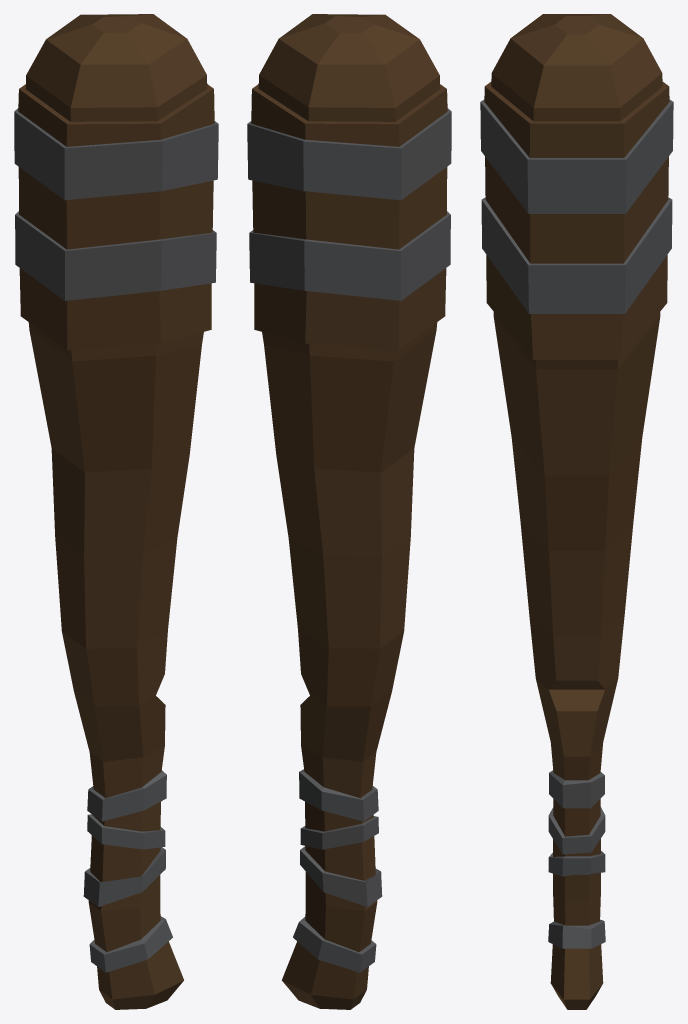
The model's file is Club_B.glb.
The picture shows the model from 3 angles, left to right: view 1: azimuth 30°, elevation 25°; view 2: azimuth 150°, elevation 25°; view 3: azimuth 270°, elevation 25°; orthographic projection. The views are drawn at different scales.
Parts seen in each view (by area): view 1: Club_B; view 2: Club_B; view 3: Club_B.
Part boxes in pixels (left/top/right/bottom): Club_B: left=14, top=14, right=218, bottom=1009; Club_B: left=247, top=14, right=451, bottom=1009; Club_B: left=480, top=14, right=673, bottom=1009.
Bounding box in the file's own units: 0.133 × 0.8115 × 0.1475.
Materials: 1 (1 with a texture image).
